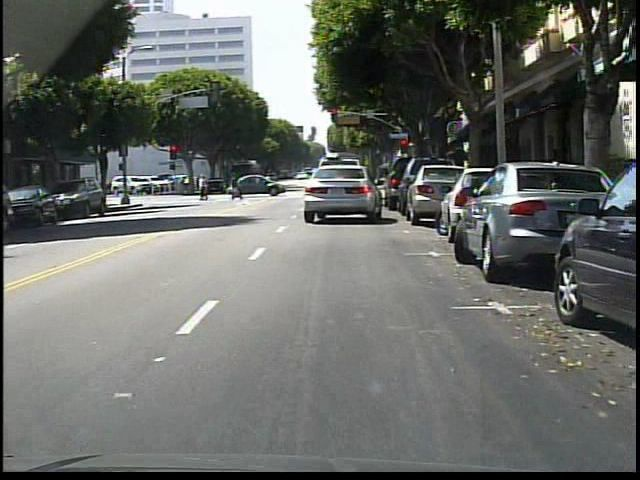person: (230, 172, 243, 201), (198, 174, 212, 200), (267, 173, 275, 191)
